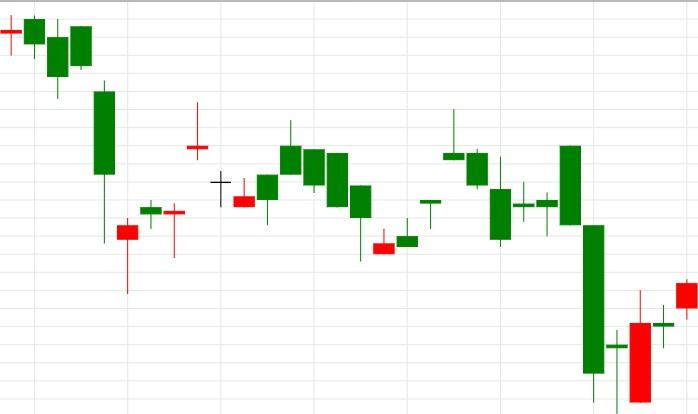hammer_rise: (280, 119, 371, 262)
